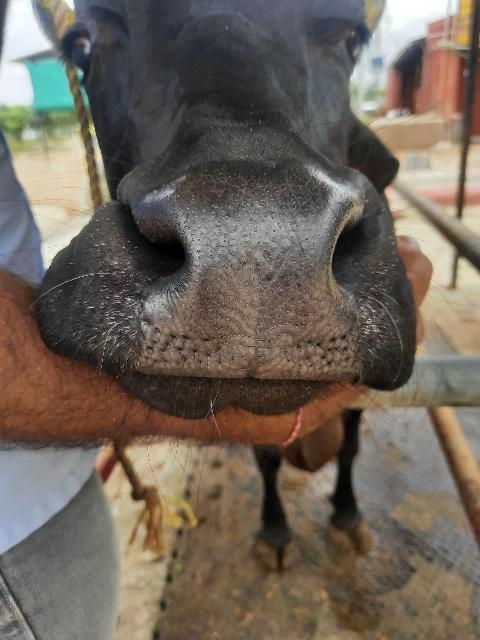Muzzle: (140, 182, 356, 376)
